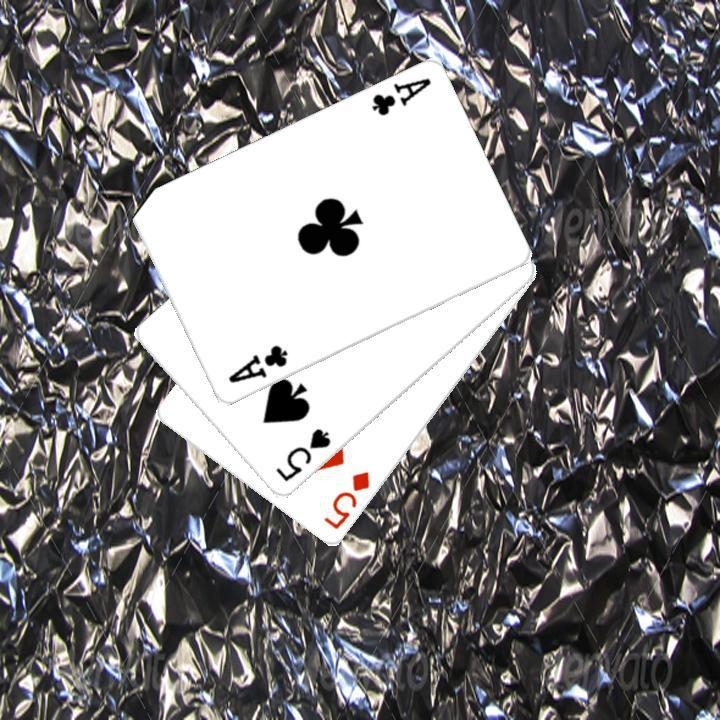5: (271, 424, 333, 484), (319, 467, 372, 532)
A: (223, 341, 290, 386), (367, 74, 433, 119)
